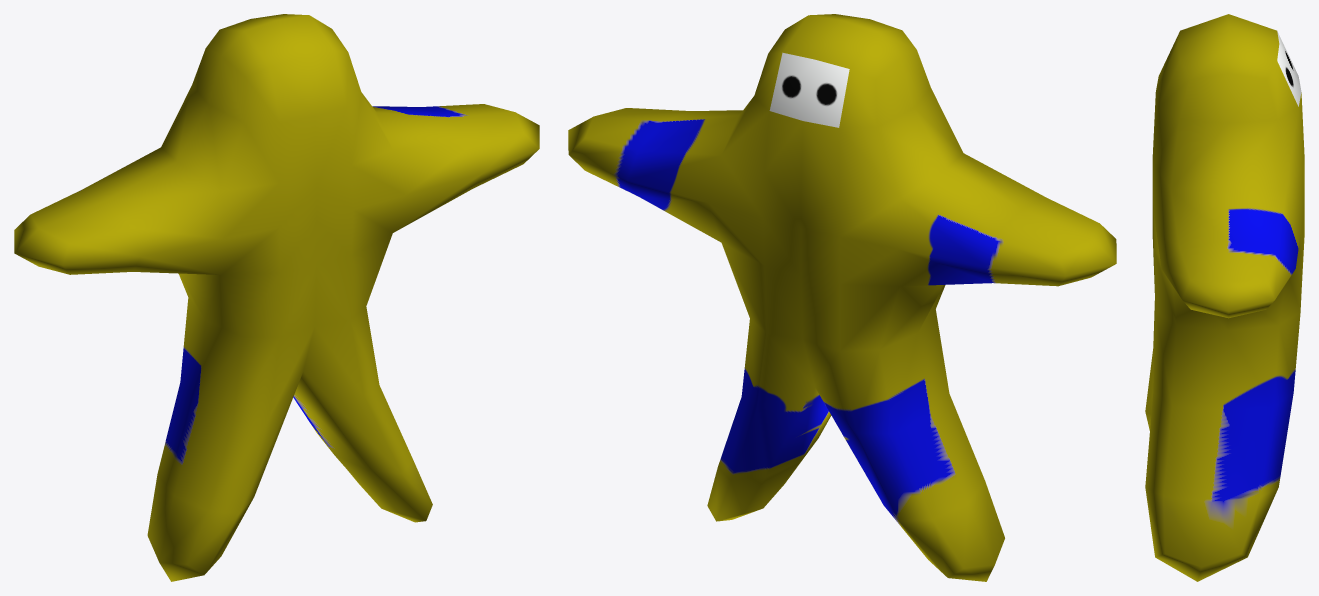
Rendered from Frog.fbx.
3 renders of one model, left to right at view 1: azimuth 30°, elevation 25°; view 2: azimuth 150°, elevation 25°; view 3: azimuth 270°, elevation 25°, orthographic. The views are drawn at different scales.
Visible parts, largest first — view 1: Cube; view 2: Cube; view 3: Cube.
Part boxes in pixels (<box>): Cube: <box>14,14,539,581</box>; Cube: <box>568,14,1116,581</box>; Cube: <box>1145,14,1304,581</box>.
Size of the model in its own units: 764 by 723 by 210.
1 material, 1 textured.
